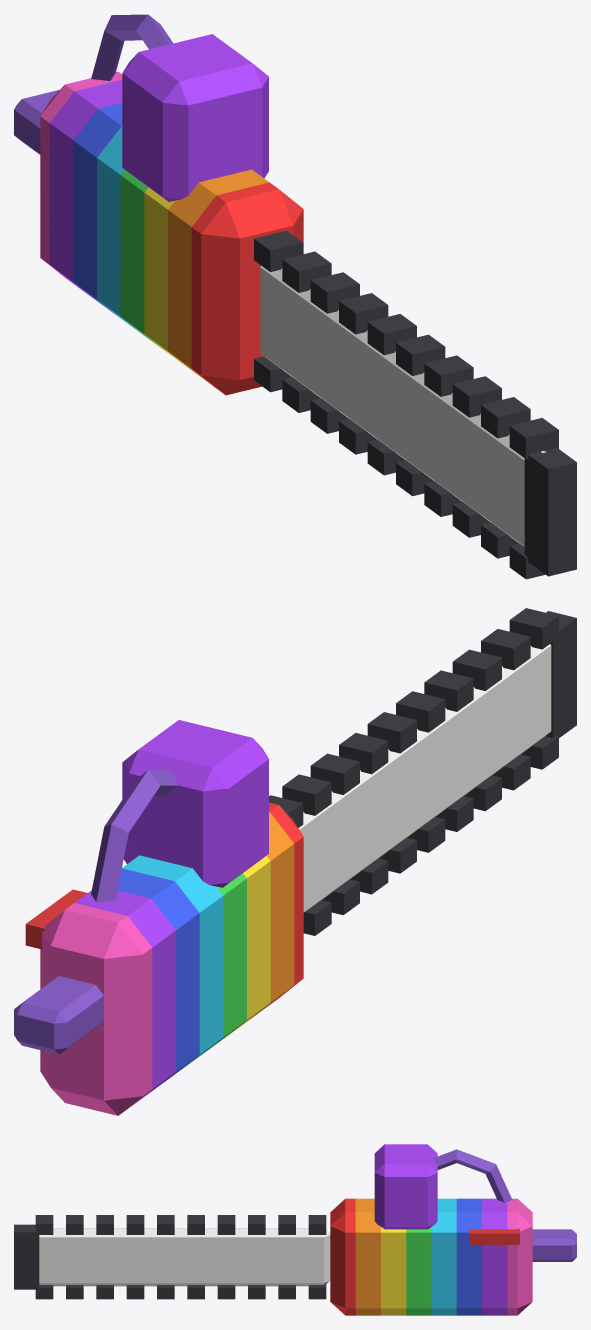
The model's file is RainbowChainsaw.fbx.
3 renders of one model, top to bottom at view 1: azimuth 30°, elevation 25°; view 2: azimuth 150°, elevation 25°; view 3: azimuth 270°, elevation 25°, orthographic. The views are drawn at different scales.
Parts seen in each view (by area): view 1: RainbowChainsaw; view 2: RainbowChainsaw; view 3: RainbowChainsaw.
Part boxes in pixels (box(x1,y1,x2,y2)): RainbowChainsaw: box(14, 14, 576, 579); RainbowChainsaw: box(14, 608, 576, 1115); RainbowChainsaw: box(14, 1144, 576, 1315).
Bounding box in the file's own units: 0.57 × 1.39 × 4.45.
1 material, 1 textured.
